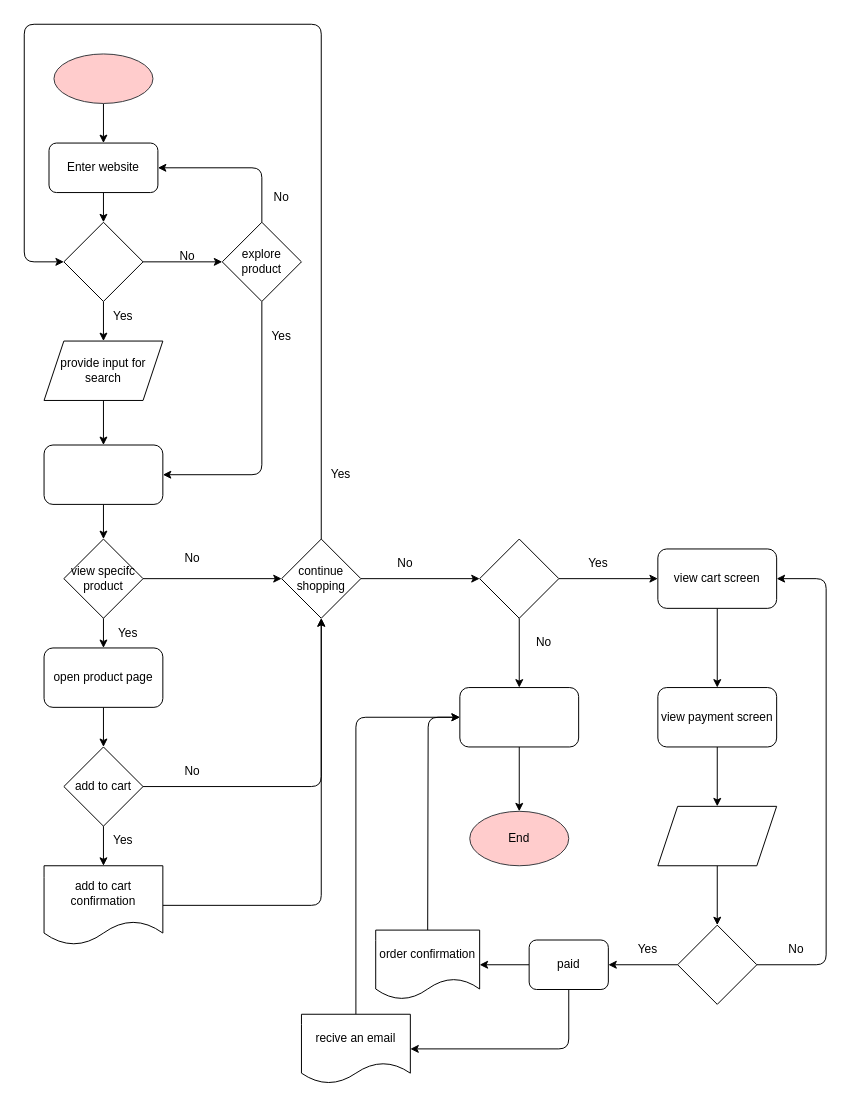
This 851x1101 diagram has some shape labels left out. The shapes that lost their labels are listed below. From the top down, each one's centre as x and y in pixels, then its label:
At (103,78): "Start".
At (103,261): "search product".
At (103,474): "user begin look over data".
At (519,578): "check out".
At (519,717): "user leaves the page".
At (717,835): "get payment information".
At (717,964): "pay".
